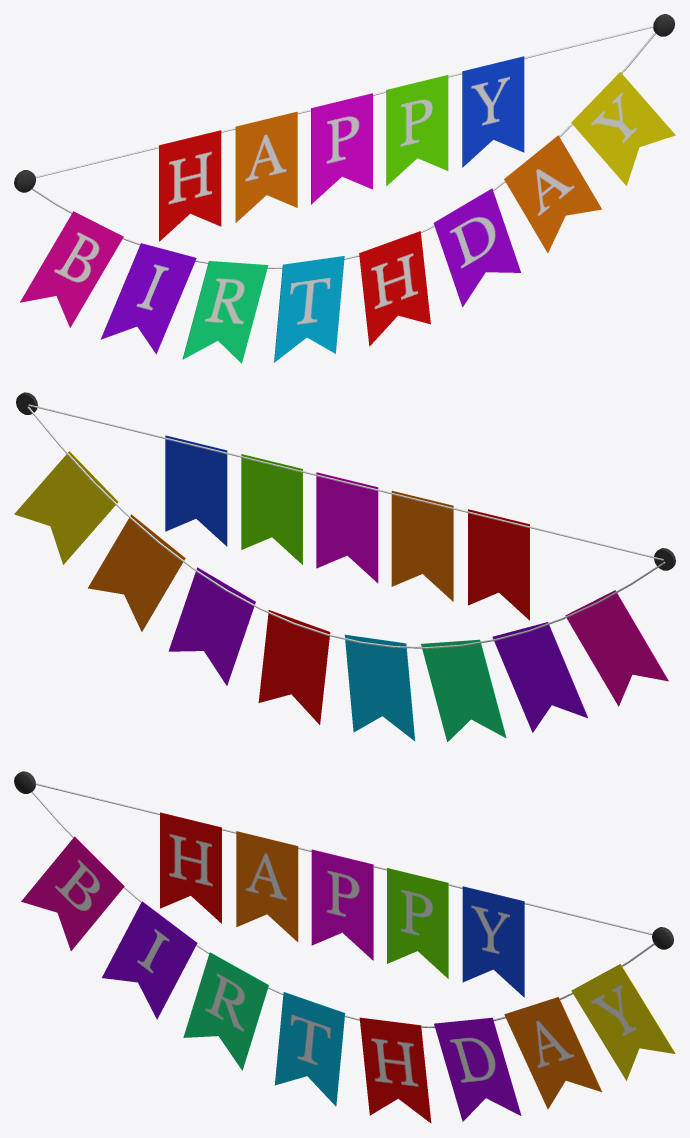
The model's file is PartyHangings01A_1.FBX.
The picture shows the model from 3 angles, top to bottom: view 1: azimuth 30°, elevation 25°; view 2: azimuth 150°, elevation 25°; view 3: azimuth 330°, elevation 25°; orthographic projection.
Parts seen in each view (by area): view 1: PartyHangings01A_1; view 2: PartyHangings01A_1; view 3: PartyHangings01A_1.
Part boxes in pixels (x1=…): PartyHangings01A_1: x1=14, y1=14, x2=675, y2=363; PartyHangings01A_1: x1=14, y1=392, x2=675, y2=741; PartyHangings01A_1: x1=14, y1=771, x2=675, y2=1123.
Size of what is drawn, in the model's own units: 1.33 by 0.5006 by 0.0117.
